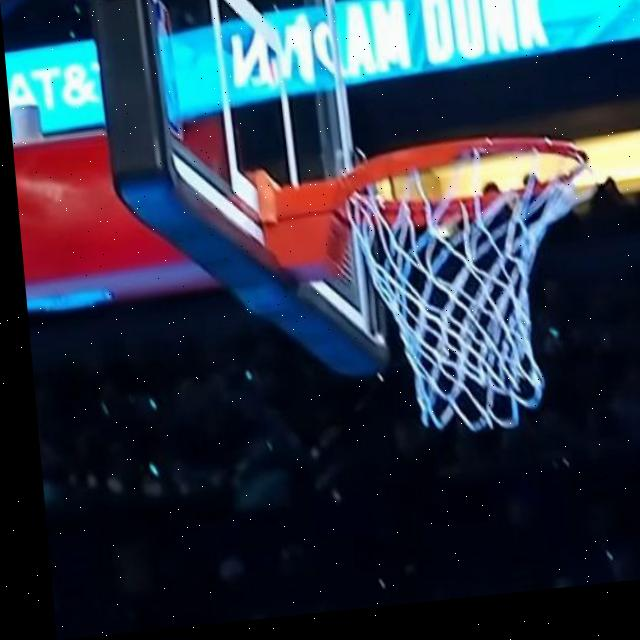hoop: (297, 130, 640, 463)
